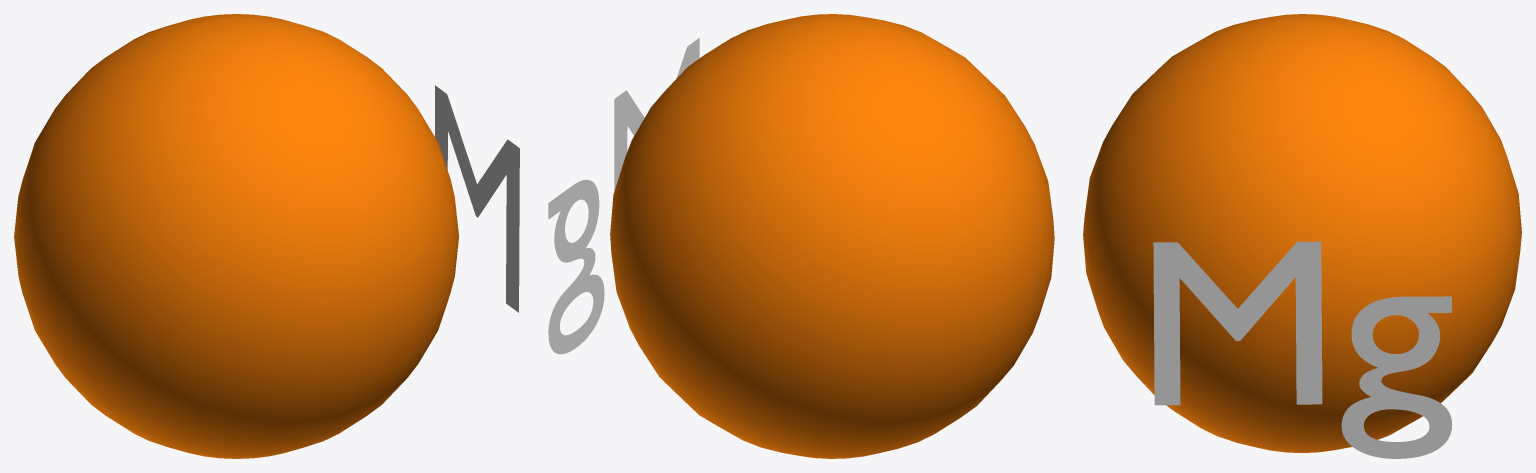
3 renders of one model, left to right at view 1: azimuth 30°, elevation 25°; view 2: azimuth 150°, elevation 25°; view 3: azimuth 270°, elevation 25°, orthographic.
Parts seen in each view (by area): view 1: 구체, 텍스트; view 2: 구체, 텍스트; view 3: 구체, 텍스트.
Boxes of the visible parts, x1,y1,x2,y2 form: 구체: (14, 14, 458, 458); 텍스트: (435, 85, 519, 312); 구체: (610, 14, 1054, 458); 텍스트: (548, 38, 699, 354); 구체: (1083, 14, 1521, 452); 텍스트: (1153, 241, 1452, 458).
Bounding box in the file's own units: 260 × 250 × 249.
